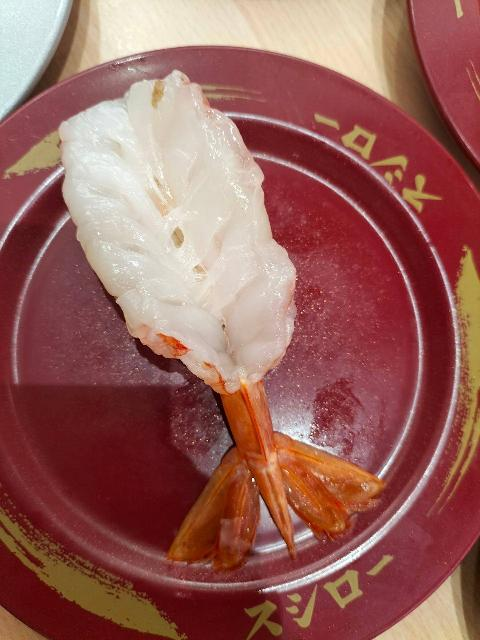janred: (47, 94, 459, 630), (408, 13, 480, 183), (1, 0, 44, 119)
